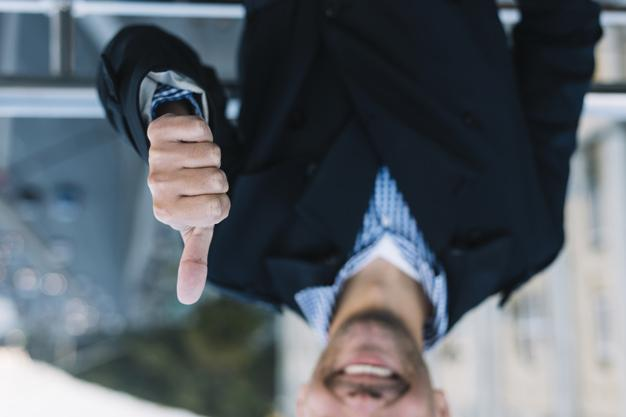thumbsdown: (147, 115, 231, 305)
